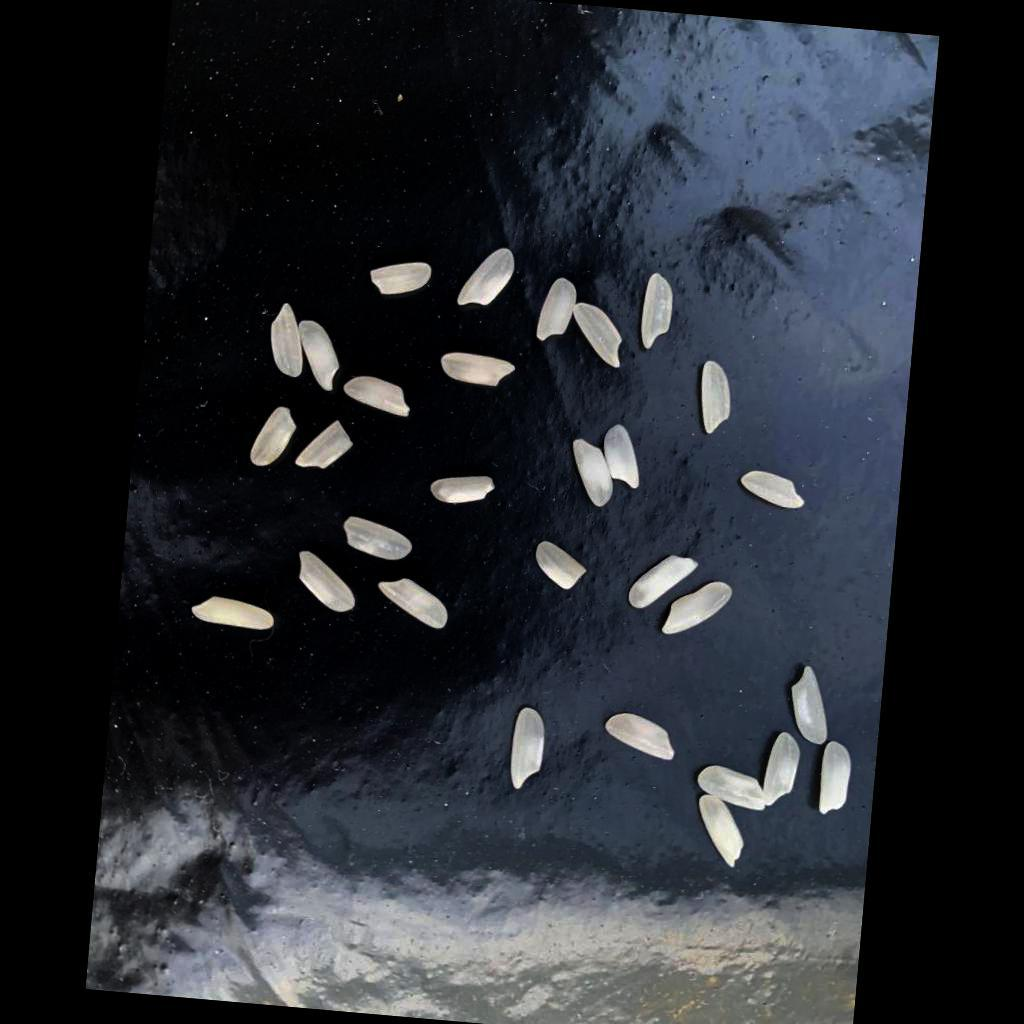rice: (627, 551, 701, 616), (662, 578, 734, 641), (373, 576, 451, 632), (293, 551, 359, 615), (692, 795, 748, 870), (786, 665, 835, 745), (456, 245, 515, 311), (570, 302, 626, 370), (601, 713, 677, 763), (567, 439, 619, 511), (293, 321, 344, 394), (696, 763, 768, 812), (509, 705, 548, 793), (341, 517, 415, 563), (266, 302, 309, 380), (340, 375, 414, 420), (296, 417, 356, 472), (437, 351, 517, 392), (600, 423, 647, 492), (249, 405, 298, 471), (762, 730, 802, 810), (191, 594, 275, 632), (696, 360, 735, 437), (536, 277, 579, 346), (532, 541, 589, 593), (739, 470, 809, 512), (638, 273, 675, 352), (368, 258, 434, 300), (818, 740, 853, 817), (428, 471, 497, 509)
